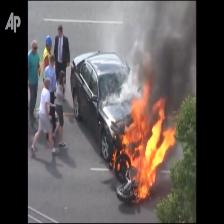fire: (120, 79, 176, 201)
